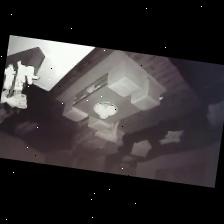person: (79, 119, 120, 142)
